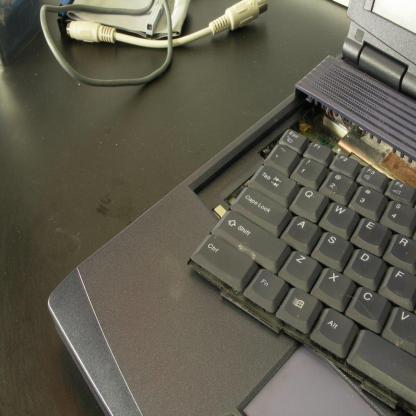board: (46, 0, 415, 415)
